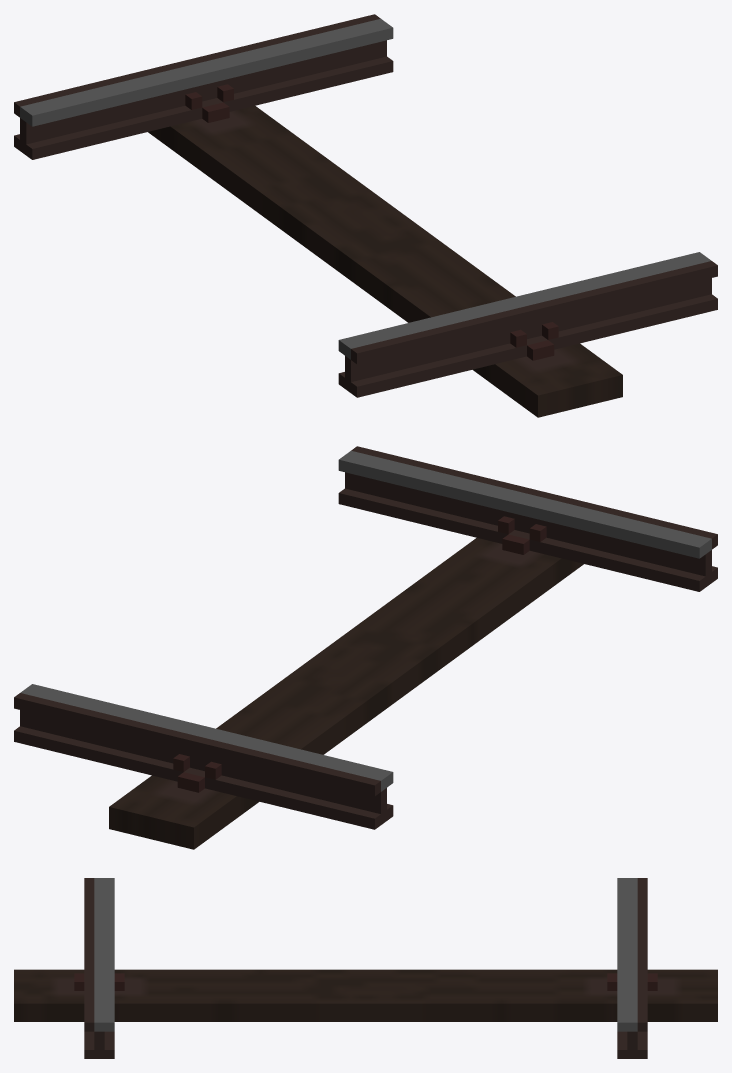
Rendered from tramwood.obj.
The picture shows the model from 3 angles, top to bottom: view 1: azimuth 30°, elevation 25°; view 2: azimuth 150°, elevation 25°; view 3: azimuth 270°, elevation 25°; orthographic projection. The views are drawn at different scales.
Visible parts, largest first — view 1: RAIL_BASE_2, RAIL_RIGHT, RAIL_LEFT, RAIL_BASE_1; view 2: RAIL_BASE_2, RAIL_LEFT, RAIL_RIGHT, RAIL_BASE_1; view 3: RAIL_BASE_2, RAIL_LEFT, RAIL_RIGHT, RAIL_BASE_1.
Boxes of the visible parts, box(x1,y1,x2,y2) form: RAIL_BASE_2: box(148, 106, 622, 417); RAIL_RIGHT: box(14, 14, 393, 159); RAIL_LEFT: box(338, 252, 717, 397); RAIL_BASE_1: box(185, 84, 558, 360); RAIL_BASE_2: box(109, 538, 583, 849); RAIL_LEFT: box(338, 446, 717, 591); RAIL_RIGHT: box(14, 684, 393, 829); RAIL_BASE_1: box(173, 516, 546, 792); RAIL_BASE_2: box(14, 969, 717, 1021); RAIL_LEFT: box(84, 878, 114, 1058); RAIL_RIGHT: box(617, 878, 647, 1058); RAIL_BASE_1: box(74, 973, 657, 990).
Bounding box in the file's own units: 1.06 × 0.1875 × 2.19.
2 materials, 2 textured.
